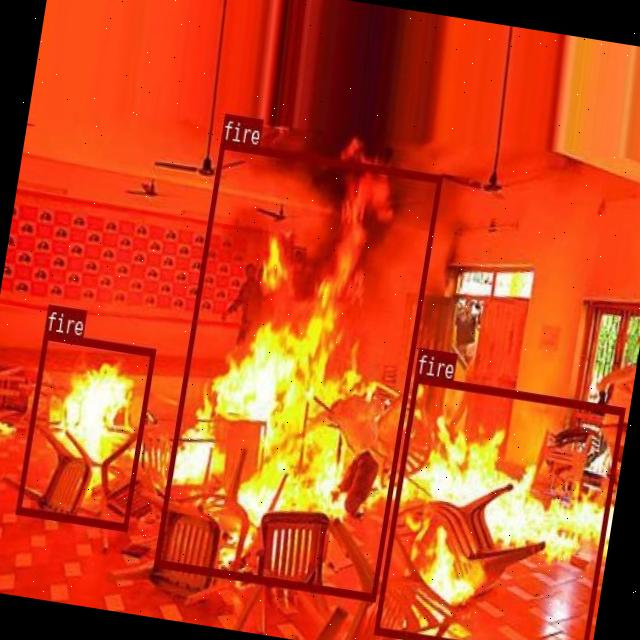fire: (152, 139, 442, 601), (372, 373, 624, 640), (15, 331, 154, 530)
